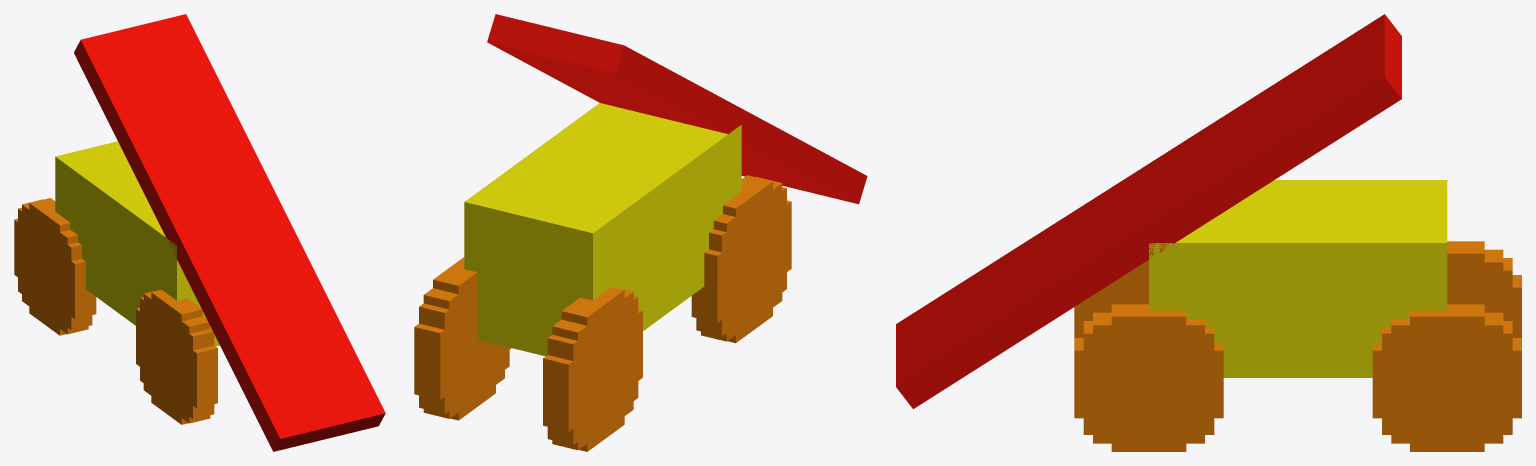
File: catapult.glb
3 renders of one model, left to right at view 1: azimuth 30°, elevation 25°; view 2: azimuth 150°, elevation 25°; view 3: azimuth 270°, elevation 25°, orthographic. The views are drawn at different scales.
Parts seen in each view (by area): view 1: CatapultLever, CatapultWheel, CatapultBody; view 2: CatapultBody, CatapultWheel, CatapultLever; view 3: CatapultLever, CatapultBody, CatapultWheel.
Boxes of the visible parts, bbox=[...] form: CatapultLever: bbox=[74, 14, 385, 451]; CatapultWheel: bbox=[14, 198, 217, 424]; CatapultBody: bbox=[55, 141, 219, 346]; CatapultBody: bbox=[464, 103, 741, 356]; CatapultWheel: bbox=[414, 175, 791, 451]; CatapultLever: bbox=[487, 14, 867, 204]; CatapultLever: bbox=[896, 14, 1401, 408]; CatapultBody: bbox=[1149, 180, 1447, 377]; CatapultWheel: bbox=[1074, 241, 1521, 451].
Size of the model in its own units: 2.4 by 5.45 by 8.39.
